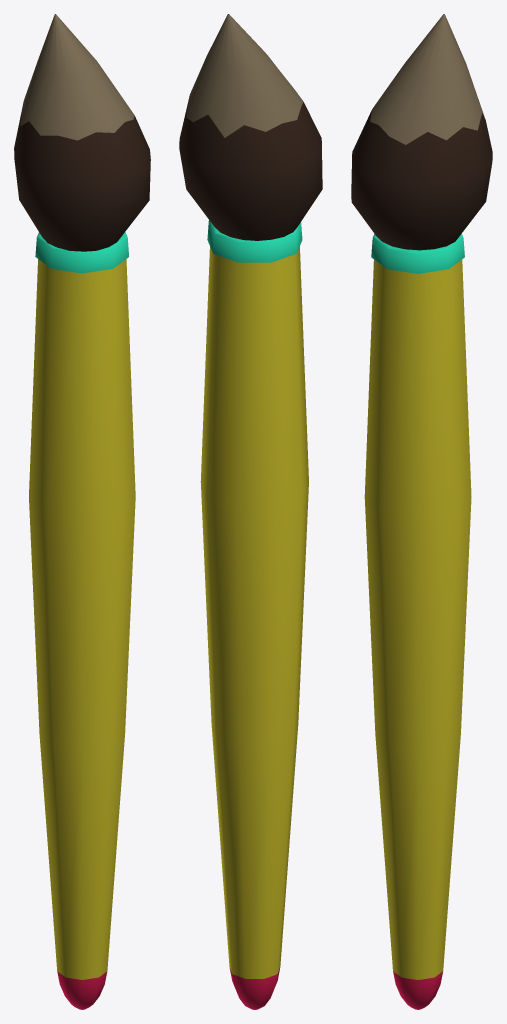
File: brush 1.FBX
3 renders of one model, left to right at view 1: azimuth 90°, elevation 25°; view 2: azimuth 150°, elevation 25°; view 3: azimuth 330°, elevation 25°, orthographic.
Parts seen in each view (by area): view 1: Capsule001; view 2: Capsule001; view 3: Capsule001.
Boxes of the visible parts, bbox=[...] form: Capsule001: bbox=[14, 14, 150, 1009]; Capsule001: bbox=[179, 14, 322, 1009]; Capsule001: bbox=[351, 14, 492, 1009].
Bounding box in the file's own units: 4.82 × 37.33 × 4.68.
